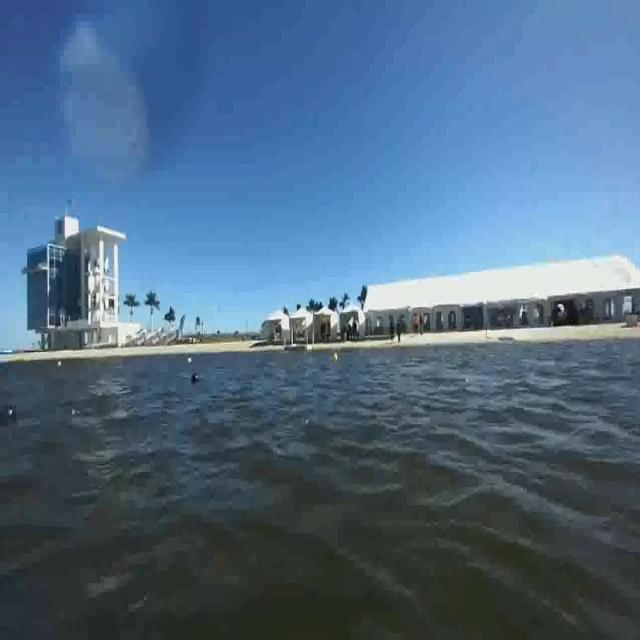black-buoy: (0, 397, 16, 432)
